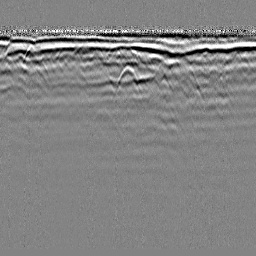cavity: (115, 63, 141, 94)
